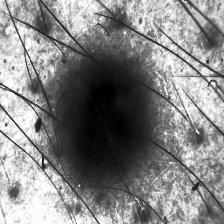Benign Marking or Mole: (57, 62, 152, 173)
